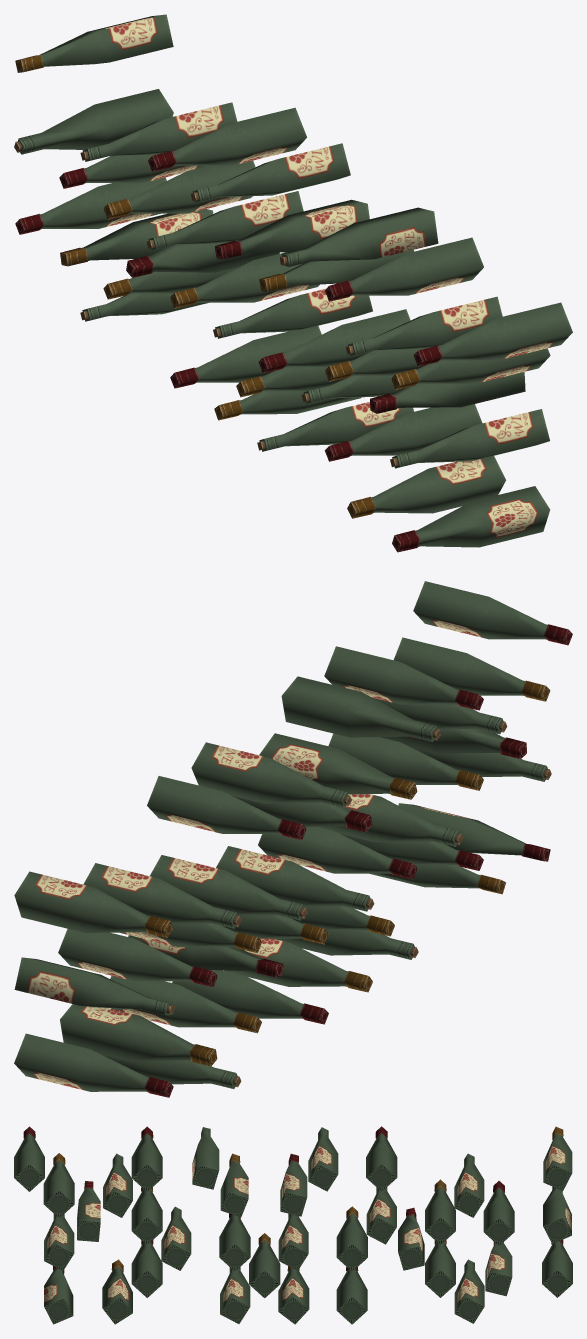
Rendered from LOD2_bottles_wineCabinet_1.fbx.
The picture shows the model from 3 angles, top to bottom: view 1: azimuth 30°, elevation 25°; view 2: azimuth 150°, elevation 25°; view 3: azimuth 270°, elevation 25°; orthographic projection. The views are drawn at different scales.
Visible parts, largest first — view 1: LOD2_bottles_wineCabinet_1; view 2: LOD2_bottles_wineCabinet_1; view 3: LOD2_bottles_wineCabinet_1.
Part boxes in pixels (left/top/right/bottom): LOD2_bottles_wineCabinet_1: left=14, top=14, right=572, bottom=552; LOD2_bottles_wineCabinet_1: left=14, top=581, right=572, bottom=1097; LOD2_bottles_wineCabinet_1: left=14, top=1126, right=572, bottom=1324.
Size of the model in its own units: 0.3339 by 0.5302 by 1.67.
